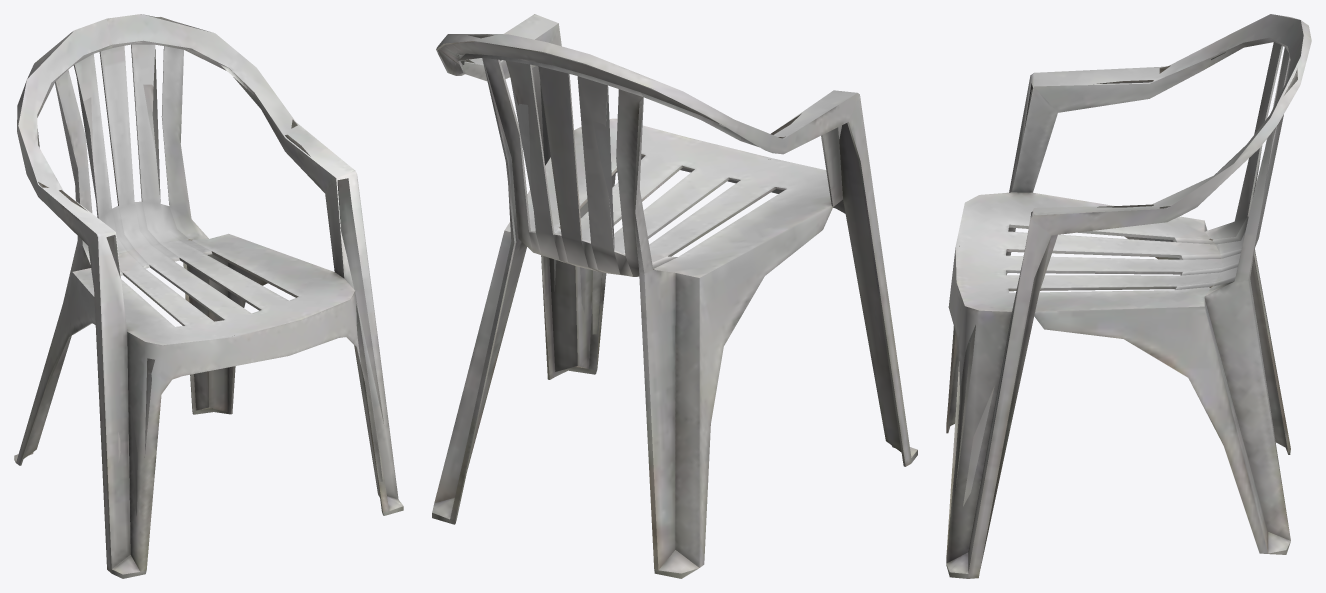
The model's file is chair.glb.
3 renders of one model, left to right at view 1: azimuth 30°, elevation 25°; view 2: azimuth 150°, elevation 25°; view 3: azimuth 270°, elevation 25°, orthographic. The views are drawn at different scales.
Parts seen in each view (by area): view 1: plastic_monobloc_chair_01; view 2: plastic_monobloc_chair_01; view 3: plastic_monobloc_chair_01.
Boxes of the visible parts, x1,y1,x2,y2 form: plastic_monobloc_chair_01: (14,14,403,578); plastic_monobloc_chair_01: (432,14,917,578); plastic_monobloc_chair_01: (946,14,1311,578).
Size of the model in its own units: 0.6419 by 0.8798 by 0.6276.
Materials: 1 (1 with a texture image).
